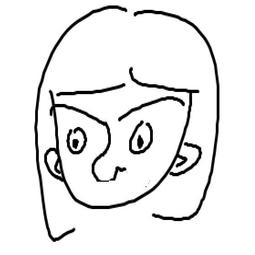ear: (167, 140, 203, 177), (40, 147, 65, 183)
eye: (126, 118, 154, 161), (66, 123, 87, 158)
frowning_eyebrow: (114, 95, 185, 122), (47, 102, 103, 123)
nose: (89, 124, 128, 184)
